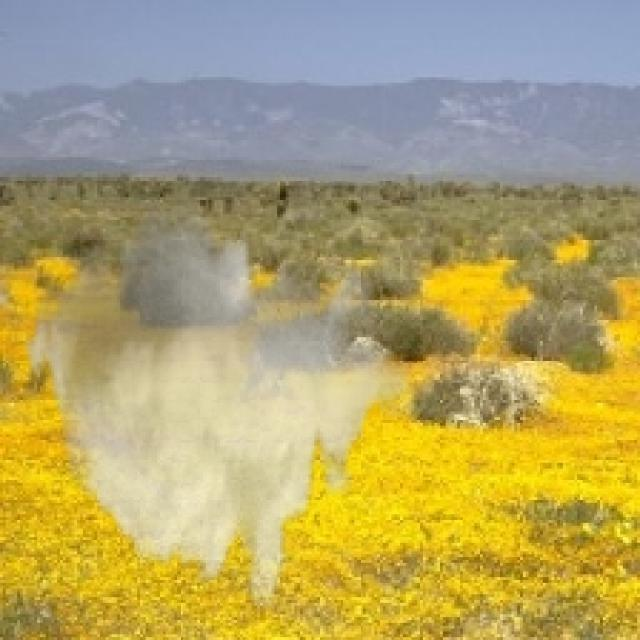Smoke: (19, 188, 412, 612)
